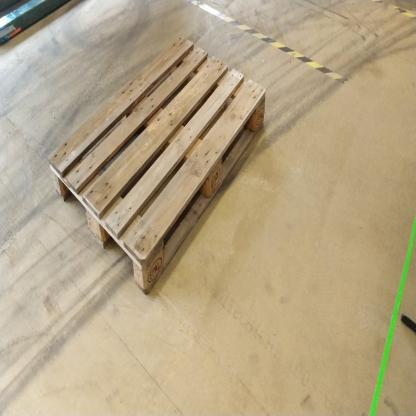BoxFace: (32, 29, 267, 306)
